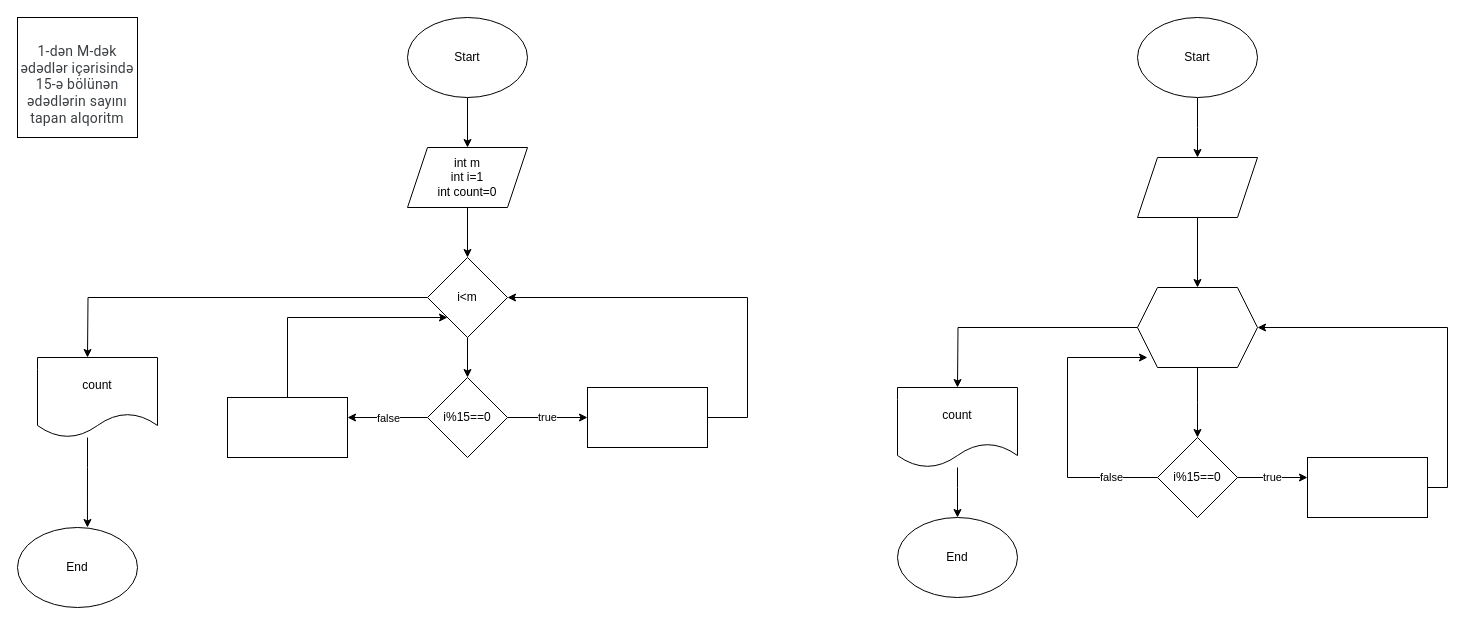
Image size: 1473x625. Some labels were removed from this diagram. Here are the shapes that lost their labels. From the top down, the centre of each, then its label:
At pixel 1197 187: "int m int count=0".
At pixel 1197 327: "int i=1;i<m;i++".
At pixel 287 427: "i++".
At pixel 647 417: "count++ i++".
At pixel 1367 487: "count++".
